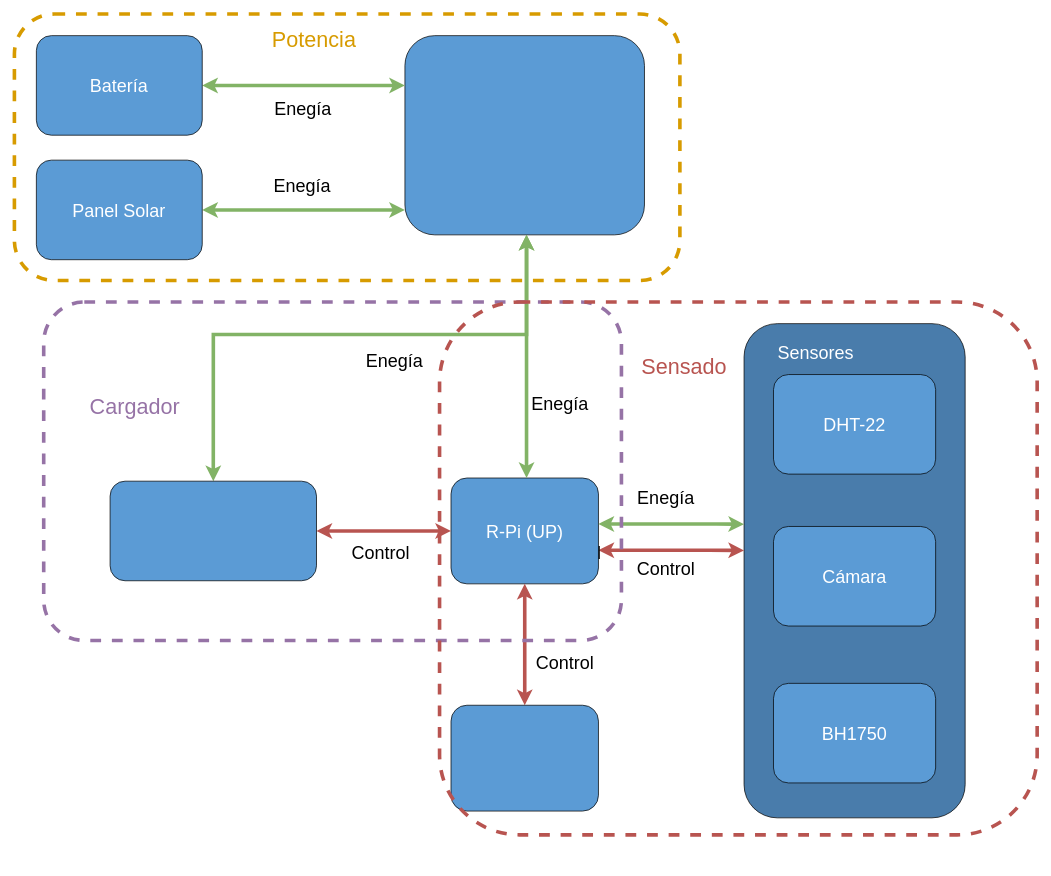
Image size: 1051x876. Some labels were removed from this diagram. The shapes that lost their labels are listed below. From the top down, each one's box as (x1, y1, x2, y2) in pixels, then its label:
(404, 35, 644, 235): Power Manager
(109, 480, 317, 581): Cargador de la Mochila
(450, 705, 598, 811): RTC
